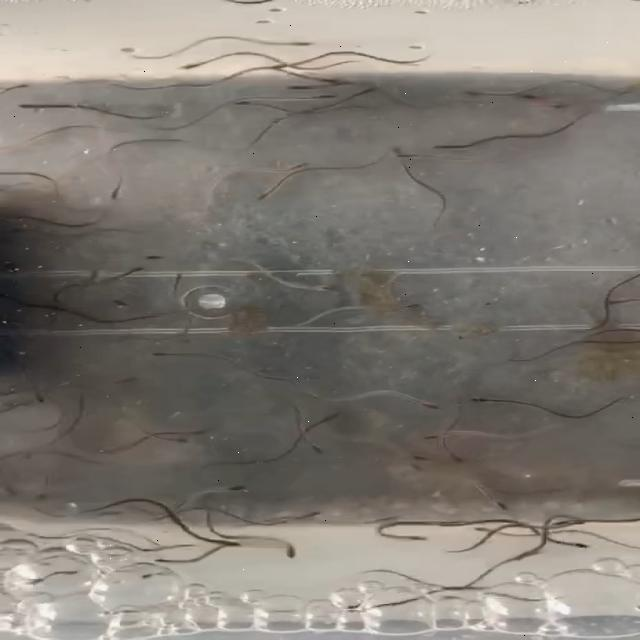active_glass_eel: (362, 145, 428, 180), (404, 130, 496, 154), (84, 173, 141, 206), (136, 426, 210, 451), (443, 79, 521, 99), (226, 467, 276, 497), (270, 542, 320, 564), (279, 153, 319, 180), (465, 380, 501, 410), (475, 500, 517, 522), (343, 82, 397, 99), (262, 78, 316, 94), (436, 452, 490, 468), (296, 502, 328, 526), (382, 298, 428, 314), (116, 260, 160, 276), (294, 440, 324, 462), (314, 276, 346, 296), (426, 393, 458, 413), (148, 344, 176, 362), (23, 386, 48, 406), (236, 96, 262, 115), (317, 70, 347, 86), (551, 540, 591, 552), (396, 535, 430, 548), (177, 57, 204, 73), (222, 535, 246, 553), (283, 38, 313, 52), (416, 427, 439, 443)
